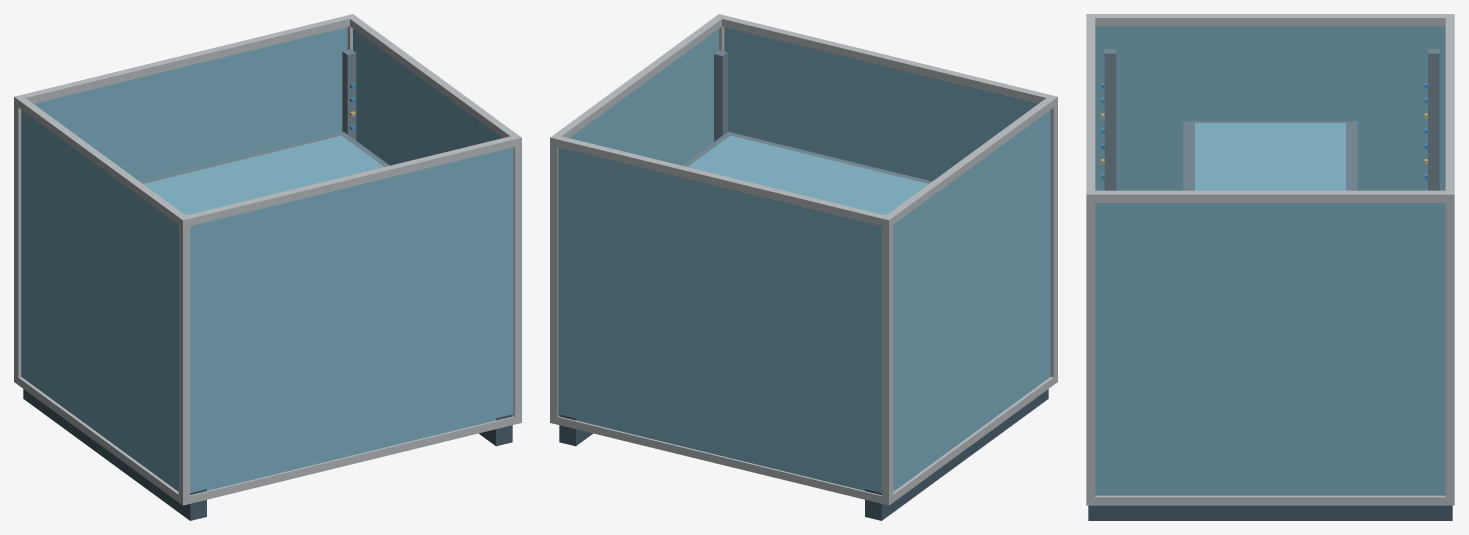
The model's file is 01_L80_TransparentPhotonicCoreEnclosure.glb.
3 renders of one model, left to right at view 1: azimuth 30°, elevation 25°; view 2: azimuth 150°, elevation 25°; view 3: azimuth 270°, elevation 25°, orthographic. The views are drawn at different scales.
Parts seen in each view (by area): view 1: TransparentPhotonicCoreEnclosure_Node_0013, TransparentPhotonicCoreEnclosure_Node_0014, TransparentPhotonicCoreEnclosure_Node_0012, TransparentPhotonicCoreEnclosure_Node_0015, TransparentPhotonicCoreEnclosure_Node_0115, TransparentPhotonicCoreEnclosure_Node_0009, TransparentPhotonicCoreEnclosure_Node_0008, TransparentPhotonicCoreEnclosure_Node_0001, TransparentPhotonicCoreEnclosure_Node_0005, TransparentPhotonicCoreEnclosure_Node_0010, TransparentPhotonicCoreEnclosure_Node_0003, TransparentPhotonicCoreEnclosure_Node_0011 (+5 smaller); view 2: TransparentPhotonicCoreEnclosure_Node_0012, TransparentPhotonicCoreEnclosure_Node_0014, TransparentPhotonicCoreEnclosure_Node_0013, TransparentPhotonicCoreEnclosure_Node_0015, TransparentPhotonicCoreEnclosure_Node_0115, TransparentPhotonicCoreEnclosure_Node_0008, TransparentPhotonicCoreEnclosure_Node_0009, TransparentPhotonicCoreEnclosure_Node_0000, TransparentPhotonicCoreEnclosure_Node_0004, TransparentPhotonicCoreEnclosure_Node_0010, TransparentPhotonicCoreEnclosure_Node_0002, TransparentPhotonicCoreEnclosure_Node_0011 (+5 smaller); view 3: TransparentPhotonicCoreEnclosure_Node_0015, TransparentPhotonicCoreEnclosure_Node_0014, TransparentPhotonicCoreEnclosure_Node_0115, TransparentPhotonicCoreEnclosure_Node_0097, TransparentPhotonicCoreEnclosure_Node_0010, TransparentPhotonicCoreEnclosure_Node_0011, TransparentPhotonicCoreEnclosure_Node_0007, TransparentPhotonicCoreEnclosure_Node_0002, TransparentPhotonicCoreEnclosure_Node_0003, TransparentPhotonicCoreEnclosure_Node_0114, TransparentPhotonicCoreEnclosure_Node_0032, TransparentPhotonicCoreEnclosure_Node_0008 (+2 smaller).
Part boxes in pixels (<box>): TransparentPhotonicCoreEnclosure_Node_0013: <box>190,147,513,492</box>; TransparentPhotonicCoreEnclosure_Node_0014: <box>21,110,178,491</box>; TransparentPhotonicCoreEnclosure_Node_0012: <box>33,27,347,181</box>; TransparentPhotonicCoreEnclosure_Node_0015: <box>353,29,502,165</box>; TransparentPhotonicCoreEnclosure_Node_0115: <box>143,135,383,215</box>; TransparentPhotonicCoreEnclosure_Node_0009: <box>179,135,521,227</box>; TransparentPhotonicCoreEnclosure_Node_0008: <box>14,15,354,106</box>; TransparentPhotonicCoreEnclosure_Node_0001: <box>178,215,190,505</box>; TransparentPhotonicCoreEnclosure_Node_0005: <box>181,416,521,503</box>; TransparentPhotonicCoreEnclosure_Node_0010: <box>14,95,189,227</box>; TransparentPhotonicCoreEnclosure_Node_0003: <box>511,134,521,423</box>; TransparentPhotonicCoreEnclosure_Node_0011: <box>350,14,521,146</box>; TransparentPhotonicCoreEnclosure_Node_0012: <box>558,147,881,492</box>; TransparentPhotonicCoreEnclosure_Node_0014: <box>893,110,1050,491</box>; TransparentPhotonicCoreEnclosure_Node_0013: <box>724,27,1038,181</box>; TransparentPhotonicCoreEnclosure_Node_0015: <box>569,29,718,165</box>; TransparentPhotonicCoreEnclosure_Node_0115: <box>688,135,928,215</box>; TransparentPhotonicCoreEnclosure_Node_0008: <box>550,136,892,227</box>; TransparentPhotonicCoreEnclosure_Node_0009: <box>715,14,1056,103</box>; TransparentPhotonicCoreEnclosure_Node_0000: <box>881,215,893,505</box>; TransparentPhotonicCoreEnclosure_Node_0004: <box>557,416,892,504</box>; TransparentPhotonicCoreEnclosure_Node_0010: <box>882,95,1057,226</box>; TransparentPhotonicCoreEnclosure_Node_0002: <box>550,135,560,424</box>; TransparentPhotonicCoreEnclosure_Node_0011: <box>550,15,722,145</box>; TransparentPhotonicCoreEnclosure_Node_0015: <box>1095,203,1445,495</box>; TransparentPhotonicCoreEnclosure_Node_0014: <box>1095,26,1445,190</box>; TransparentPhotonicCoreEnclosure_Node_0115: <box>1195,123,1345,190</box>; TransparentPhotonicCoreEnclosure_Node_0097: <box>1088,505,1452,520</box>; TransparentPhotonicCoreEnclosure_Node_0010: <box>1086,14,1453,26</box>; TransparentPhotonicCoreEnclosure_Node_0011: <box>1089,190,1452,202</box>; TransparentPhotonicCoreEnclosure_Node_0007: <box>1086,495,1453,505</box>; TransparentPhotonicCoreEnclosure_Node_0002: <box>1445,190,1454,505</box>; TransparentPhotonicCoreEnclosure_Node_0003: <box>1086,191,1095,505</box>; TransparentPhotonicCoreEnclosure_Node_0114: <box>1183,121,1357,190</box>; TransparentPhotonicCoreEnclosure_Node_0032: <box>1104,49,1116,190</box>; TransparentPhotonicCoreEnclosure_Node_0008: <box>1445,14,1454,195</box>.
Bounding box in the file's own units: 5.1 × 4.36 × 4.4.
